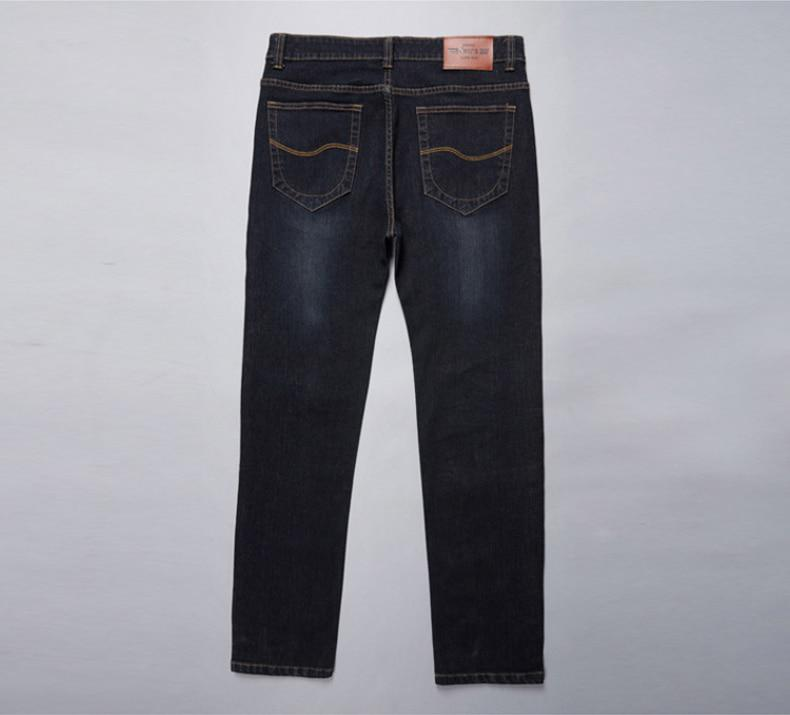jeans: (209, 30, 550, 675)
